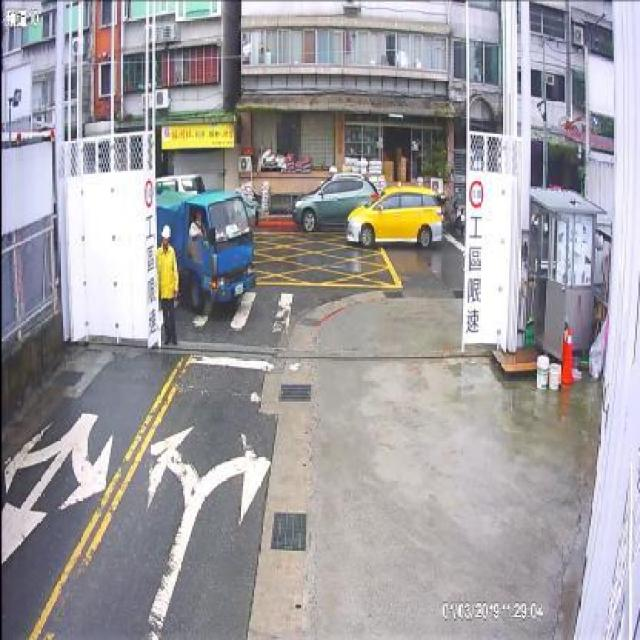Dump Truck: (156, 185, 256, 318)
